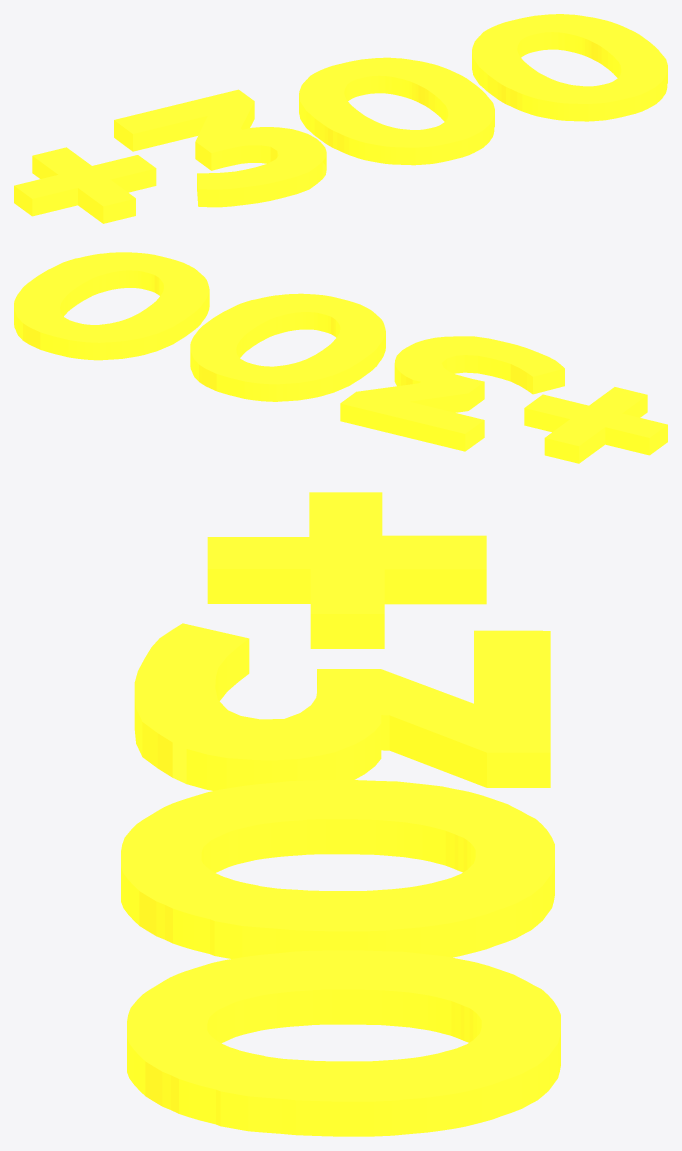
File: plus300.fbx
The picture shows the model from 3 angles, top to bottom: view 1: azimuth 30°, elevation 25°; view 2: azimuth 150°, elevation 25°; view 3: azimuth 270°, elevation 25°; orthographic projection. The views are drawn at different scales.
Parts seen in each view (by area): view 1: Plane.003, Plane.001, Plane.005, Empty.001; view 2: Plane.003, Plane.001, Plane.005, Empty.001; view 3: Plane.001, Plane.003, Plane.005, Empty.001.
Part boxes in pixels (x1,y1,x2,y2): Plane.003: (299,57,494,165); Plane.001: (472,14,667,121); Plane.005: (114,89,326,207); Empty.001: (14,147,156,223); Plane.003: (190,293,385,401); Plane.001: (14,252,209,360); Plane.005: (340,336,564,451); Empty.001: (524,387,667,463); Plane.001: (127,950,560,1136); Plane.003: (121,780,554,958); Plane.005: (134,623,550,790); Empty.001: (207,492,486,648).
Bounding box in the file's own units: 177 × 580 × 15.69.
